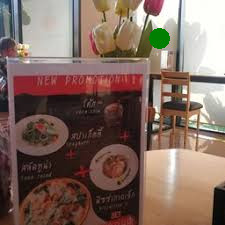focus: (148, 26, 173, 50)
